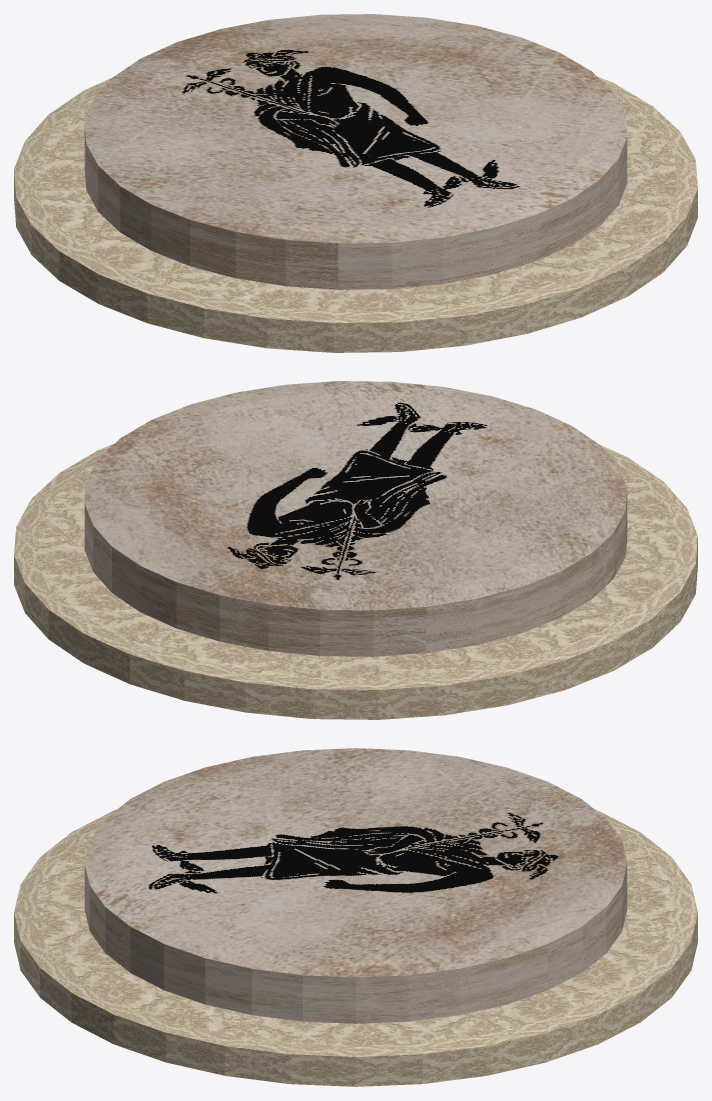
The model's file is stand_human_2.fbx.
3 renders of one model, top to bottom at view 1: azimuth 30°, elevation 25°; view 2: azimuth 150°, elevation 25°; view 3: azimuth 270°, elevation 25°, orthographic.
Parts seen in each view (by area): view 1: small, large; view 2: small, large; view 3: small, large.
Part boxes in pixels (x1,y1,x2,y2): small: (84,14,627,289); large: (14,77,697,352); small: (84,381,627,656); large: (14,444,697,719); small: (84,748,627,1023); large: (14,809,697,1086).
Size of the model in its own units: 200 by 26.59 by 200.
